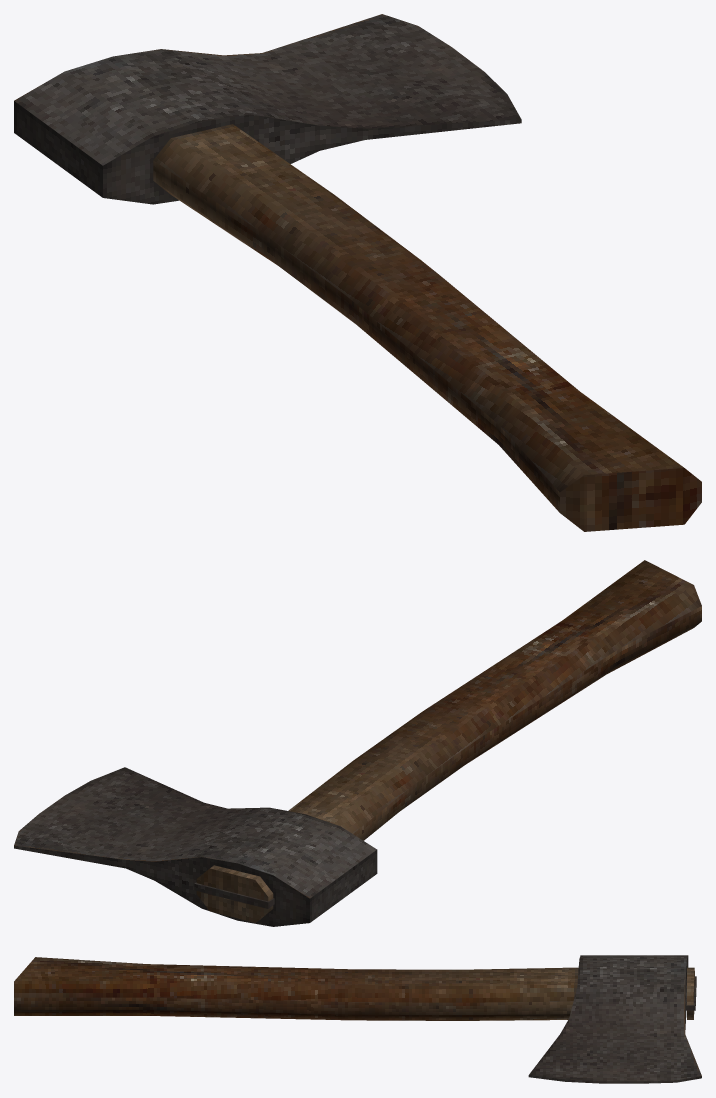
Rendered from axe_mx_1.glb.
3 renders of one model, top to bottom at view 1: azimuth 30°, elevation 25°; view 2: azimuth 150°, elevation 25°; view 3: azimuth 270°, elevation 25°, orthographic. The views are drawn at different scales.
Parts seen in each view (by area): view 1: axe_mx_1; view 2: axe_mx_1; view 3: axe_mx_1.
Boxes of the visible parts, left/top/right/bottom form: axe_mx_1: left=14, top=14, right=701, bottom=531; axe_mx_1: left=14, top=560, right=701, bottom=926; axe_mx_1: left=14, top=955, right=701, bottom=1083.
Size of the model in its own units: 0.2641 by 0.048 by 0.6527.
1 material, 1 textured.
